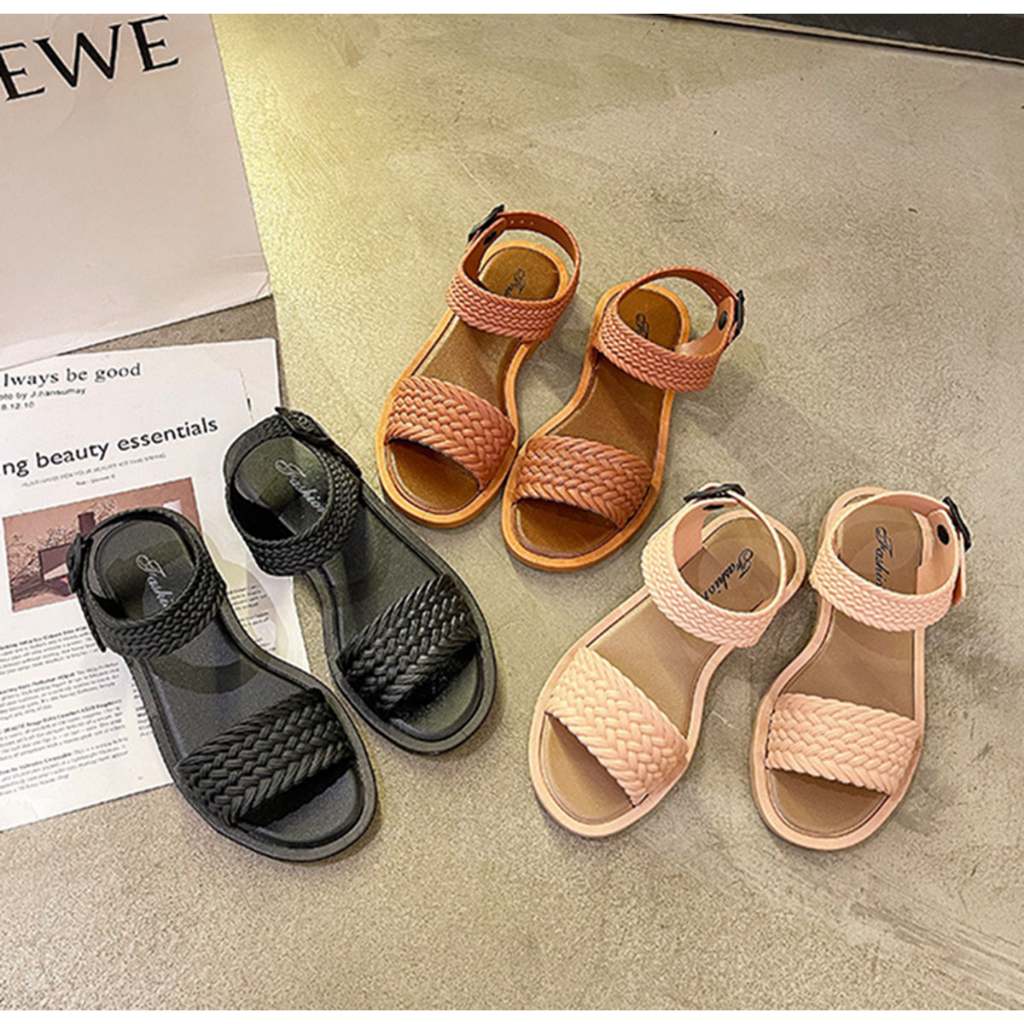sandals: (75, 508, 377, 863), (524, 483, 806, 838), (224, 405, 497, 759), (749, 485, 973, 853), (503, 263, 746, 570), (374, 201, 585, 528)
